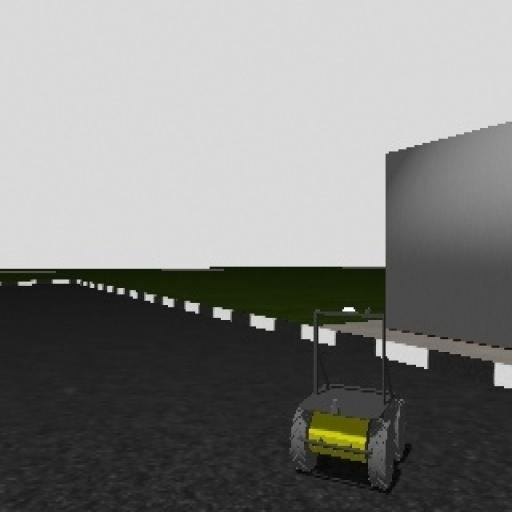huskya200: (272, 286, 407, 494)
